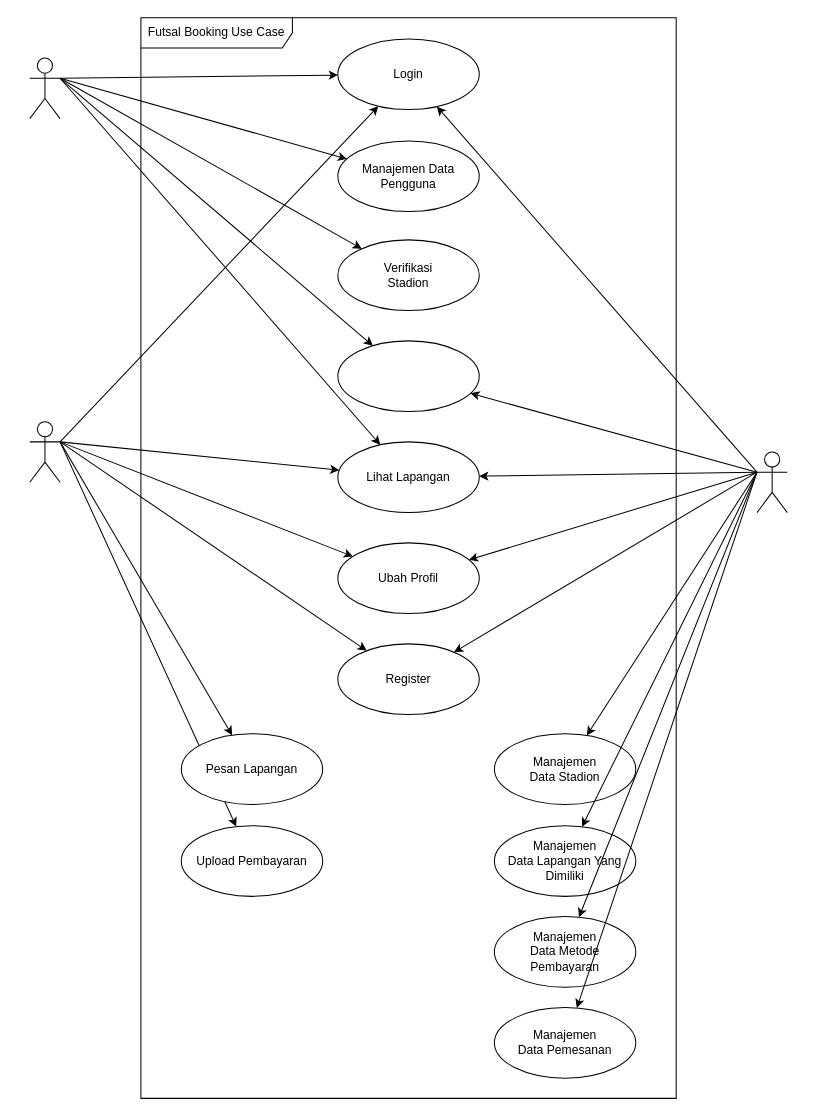
Some shapes in this 837 by 1116 pixel diagram are drawn without their labels. Here are the shapes that lost their labels. From the top down, the box of each, then its label:
(29, 57, 60, 119): Admin
(337, 340, 479, 412): Laporan
(29, 421, 60, 482): Pengguna
(756, 451, 787, 513): Pemilik Lapangan
